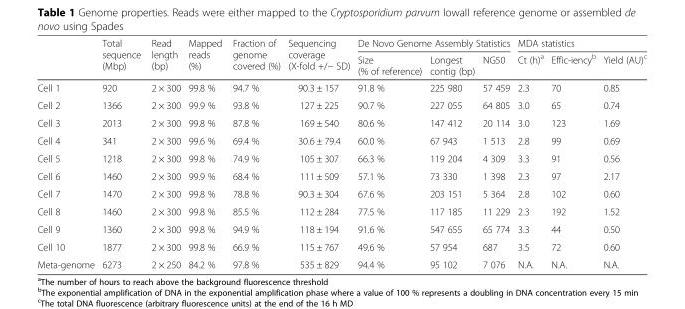table: (36, 37, 646, 269)
table column: (353, 37, 425, 269), (283, 37, 353, 269), (36, 37, 97, 269), (226, 37, 283, 269), (425, 37, 478, 269), (546, 37, 598, 269), (97, 37, 145, 269), (598, 37, 646, 269), (183, 37, 226, 269), (145, 37, 183, 269), (478, 37, 513, 269), (513, 37, 546, 269)
table column header: (36, 37, 646, 78)
table row: (36, 50, 646, 78), (36, 78, 646, 96), (36, 113, 646, 131), (36, 131, 646, 149), (36, 166, 646, 184), (36, 184, 646, 202), (36, 202, 646, 220), (36, 237, 646, 255), (36, 96, 646, 113), (36, 149, 646, 166), (36, 220, 646, 237), (36, 255, 646, 269), (36, 37, 646, 50)
table spanning cell: (283, 37, 353, 78), (226, 37, 283, 78), (353, 37, 513, 50), (97, 37, 145, 78), (183, 37, 226, 78), (513, 37, 646, 50), (145, 37, 183, 78)
